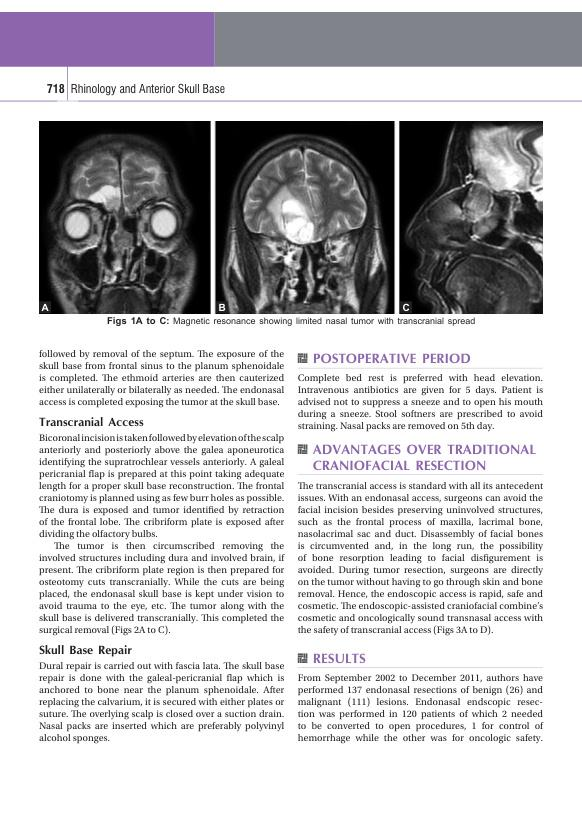caption: (106, 316, 477, 327), (40, 303, 50, 312), (217, 302, 226, 312), (402, 303, 411, 312)
header: (70, 82, 227, 96)
image: (214, 120, 395, 314), (38, 120, 212, 314), (399, 120, 543, 313)
section-heading: (310, 443, 539, 472), (312, 351, 471, 365), (312, 651, 367, 664)
sub-section-heading: (38, 643, 134, 658), (38, 415, 145, 428)
text: (38, 432, 285, 637), (296, 479, 545, 637), (38, 660, 285, 744), (296, 671, 546, 745), (297, 372, 544, 433), (38, 349, 286, 409)
